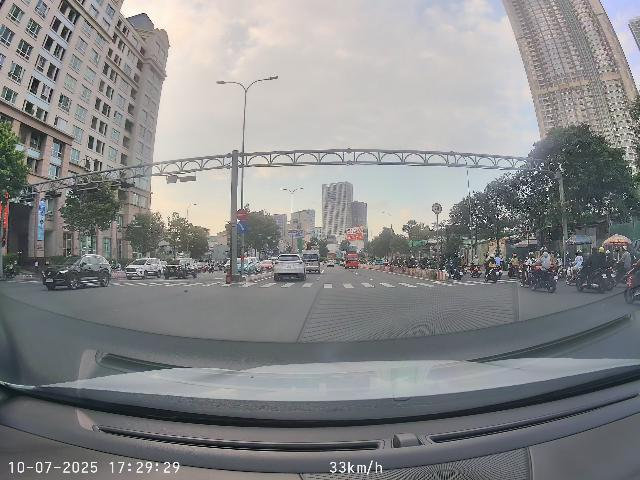102-cam-di-nguoc-chieu: (237, 209, 247, 221)
127-toc-do-toi-da-60: (525, 224, 531, 232)
127-toc-do-toi-da-70: (432, 203, 442, 214)
302a-huong-phai-di-vong-chuong-ngai-vat-1: (237, 221, 247, 233)
